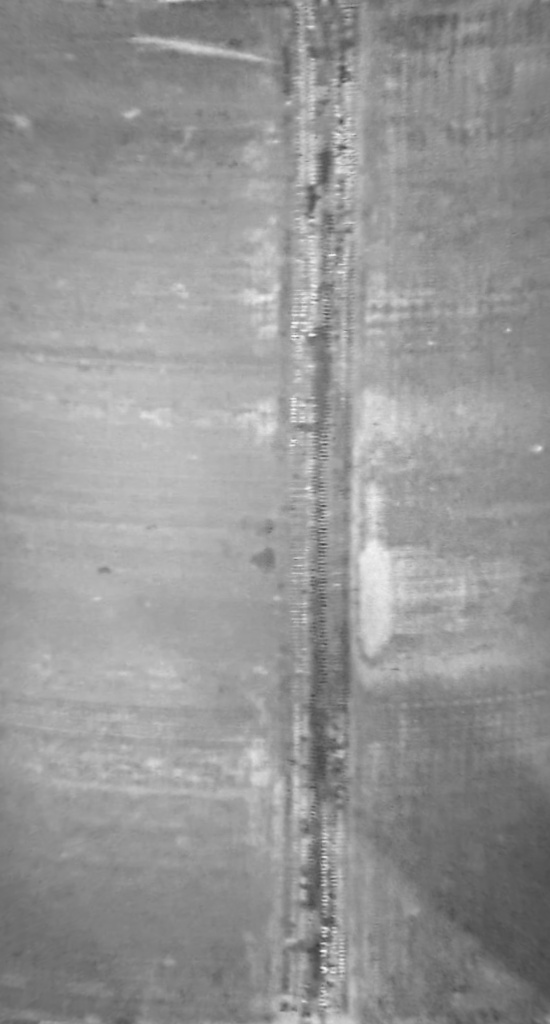splice: (260, 1, 363, 1022)
